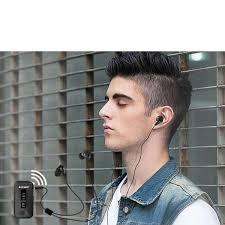earphone: (154, 114, 165, 126)
